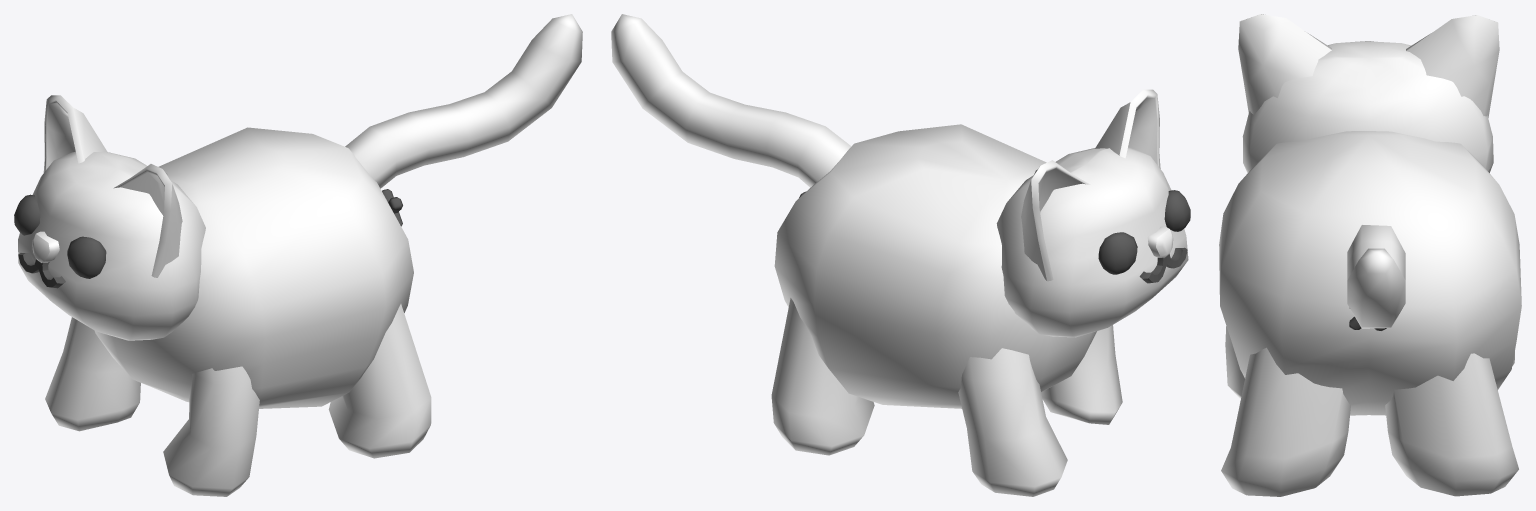
Rendered from yellow cat.fbx.
3 views of the same model, side by side, from view 1: azimuth 30°, elevation 25°; view 2: azimuth 150°, elevation 25°; view 3: azimuth 270°, elevation 25° (orthographic). The views are drawn at different scales.
Visible parts, largest first — view 1: cat_yellow, cat_yeellow; view 2: cat_yellow, cat_yeellow; view 3: cat_yellow.
Boxes of the visible parts, bbox=[...] form: cat_yellow: bbox=[18, 14, 582, 496]; cat_yeellow: bbox=[14, 194, 106, 288]; cat_yellow: bbox=[611, 14, 1188, 496]; cat_yeellow: bbox=[1098, 190, 1190, 283]; cat_yellow: bbox=[1219, 14, 1521, 496].
Bounding box in the file's own units: 5.29 × 3.15 × 2.38.
